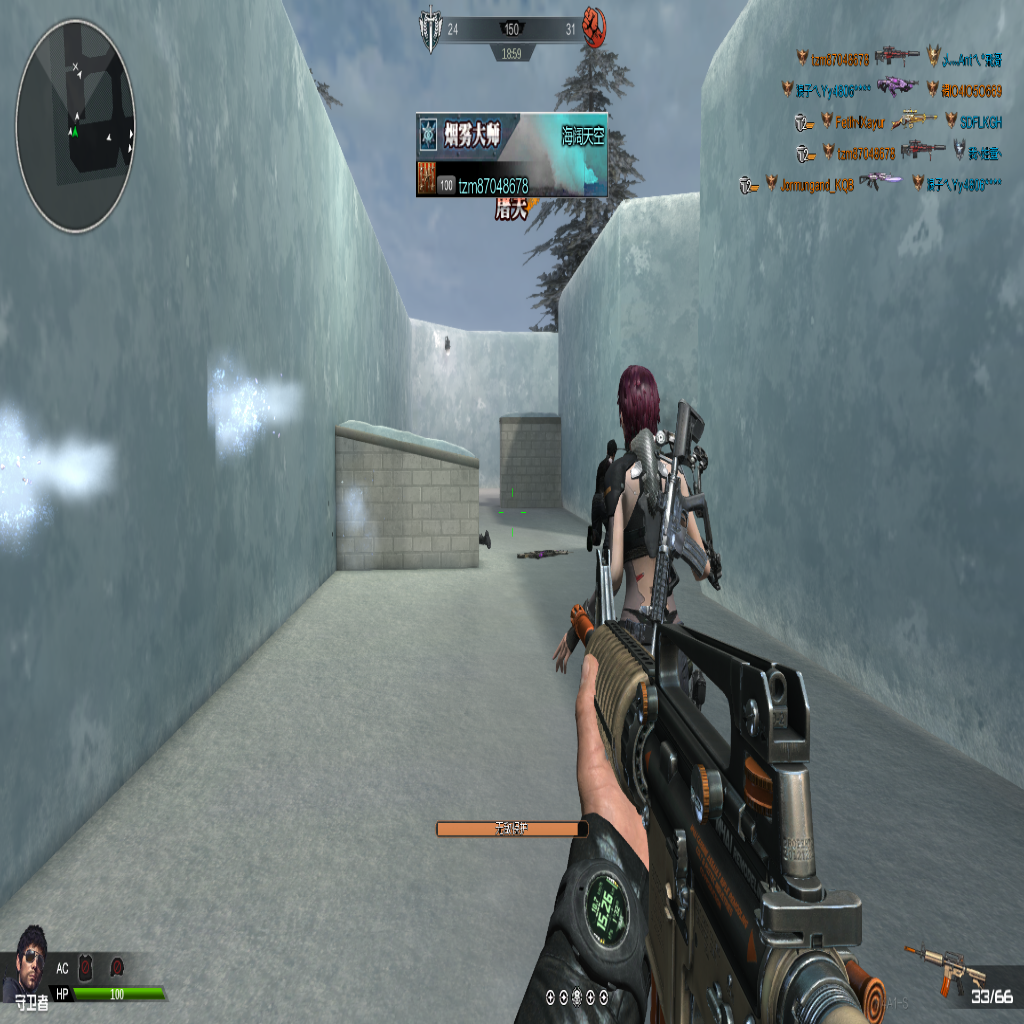ct: (607, 371, 713, 609)
